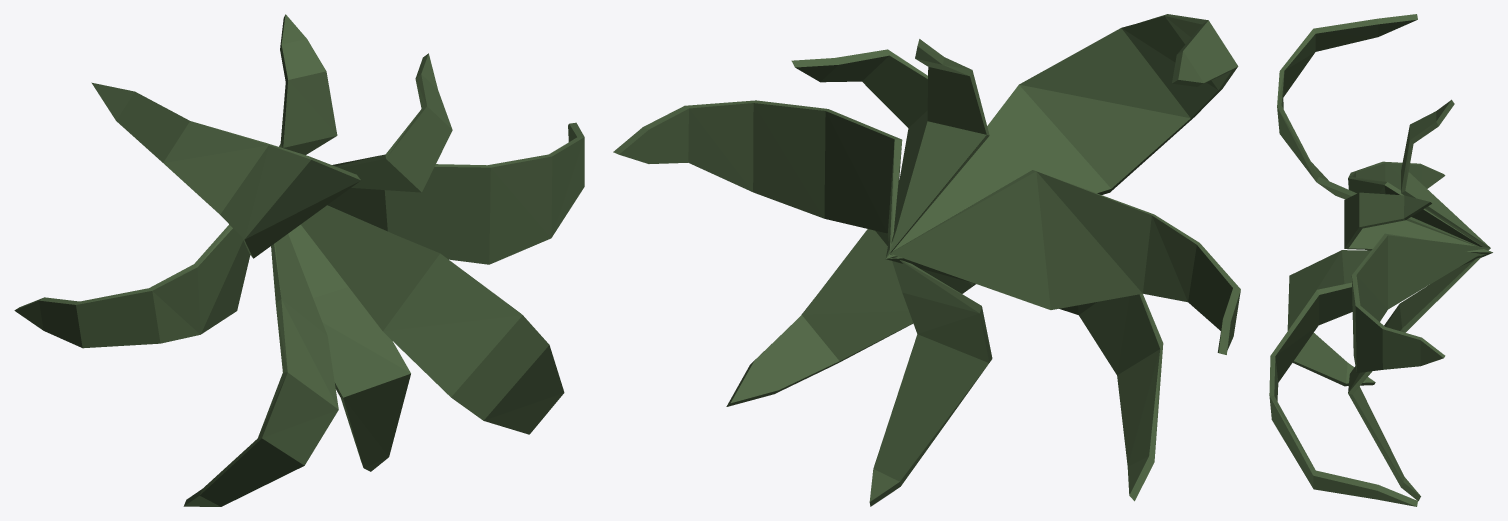
The model's file is plant-leafy-1.obj.
The picture shows the model from 3 angles, left to right: view 1: azimuth 30°, elevation 25°; view 2: azimuth 150°, elevation 25°; view 3: azimuth 270°, elevation 25°; orthographic projection. The views are drawn at different scales.
Parts seen in each view (by area): view 1: plant-leafy-1; view 2: plant-leafy-1; view 3: plant-leafy-1.
Boxes of the visible parts, left/top/right/bottom form: plant-leafy-1: left=14, top=14, right=584, bottom=506; plant-leafy-1: left=613, top=14, right=1240, bottom=506; plant-leafy-1: left=1269, top=14, right=1492, bottom=506.
Size of the model in its own units: 71.04 by 55.92 by 30.
